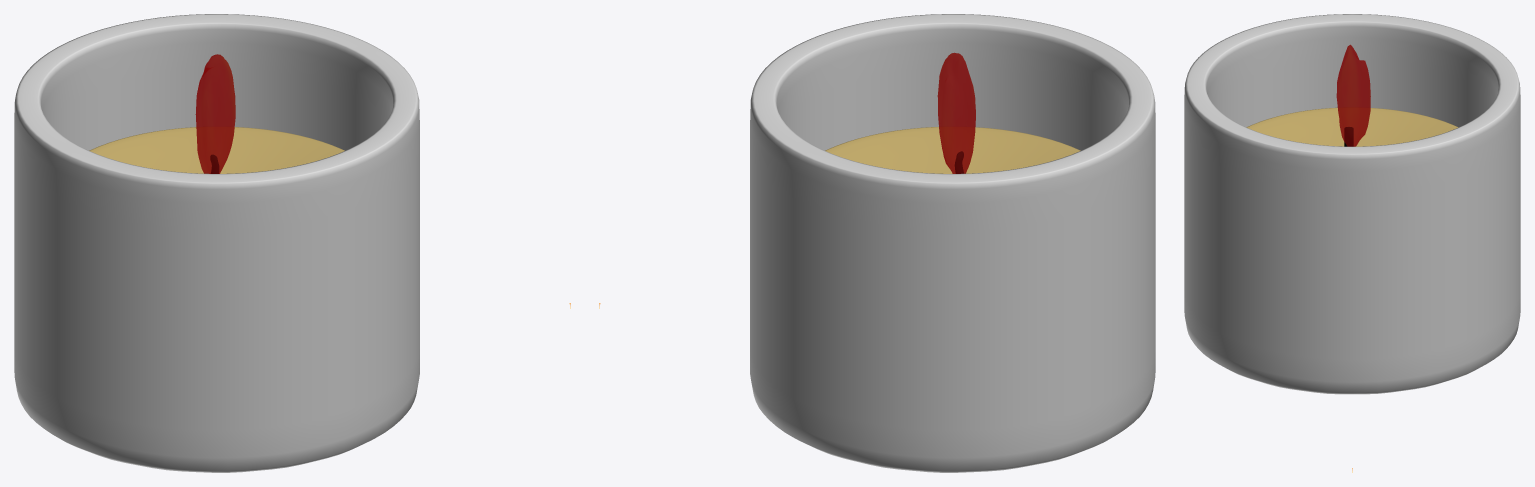
File: candle2.fbx
The picture shows the model from 3 angles, left to right: view 1: azimuth 30°, elevation 25°; view 2: azimuth 150°, elevation 25°; view 3: azimuth 270°, elevation 25°; orthographic projection. The views are drawn at different scales.
Parts seen in each view (by area): view 1: pCylinder4, polySurface1; view 2: pCylinder4, polySurface1; view 3: pCylinder4, polySurface1.
Boxes of the visible parts, x1=… form: pCylinder4: x1=14, y1=14, x2=419, y2=472; polySurface1: x1=195, y1=54, x2=235, y2=173; pCylinder4: x1=750, y1=14, x2=1155, y2=472; polySurface1: x1=937, y1=52, x2=975, y2=173; pCylinder4: x1=1184, y1=14, x2=1520, y2=394; polySurface1: x1=1336, y1=44, x2=1370, y2=146.
Bounding box in the file's own units: 18.2 × 11.24 × 12.08.
